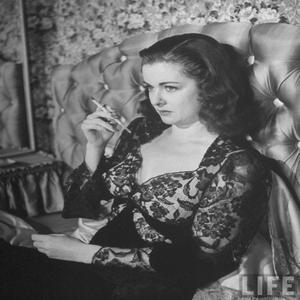cigarette: (90, 95, 111, 117)
